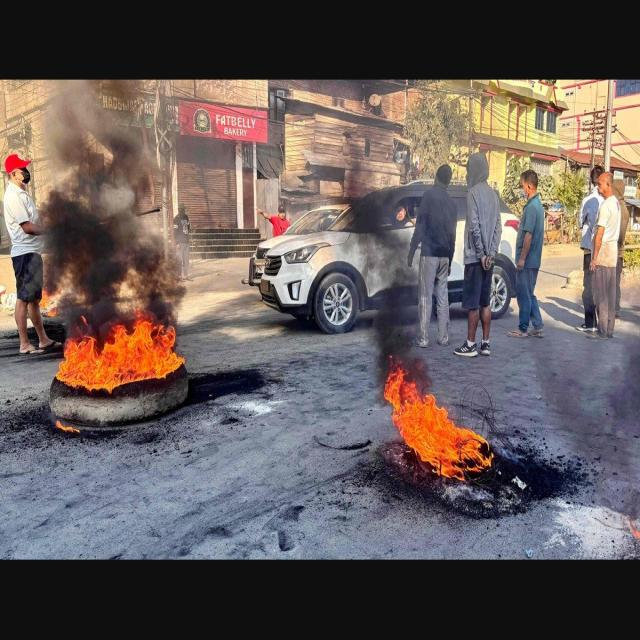fire: (384, 367, 493, 481), (56, 319, 185, 394)
